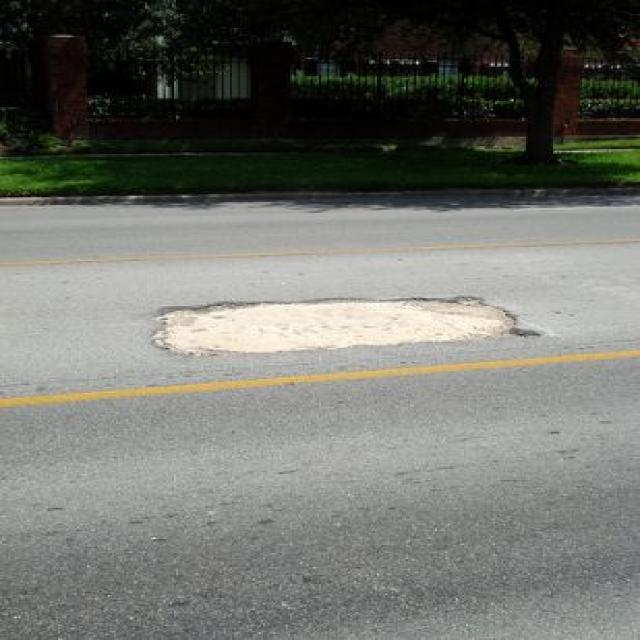pothole: (137, 288, 549, 356)
